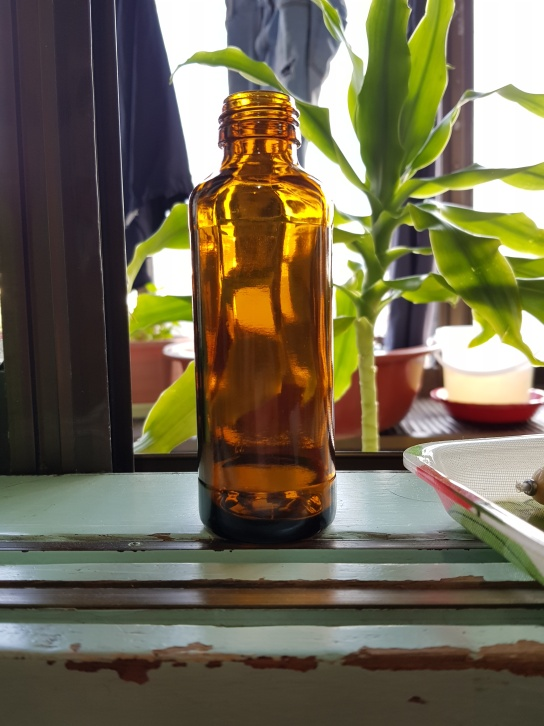Glass: (187, 88, 339, 542)
